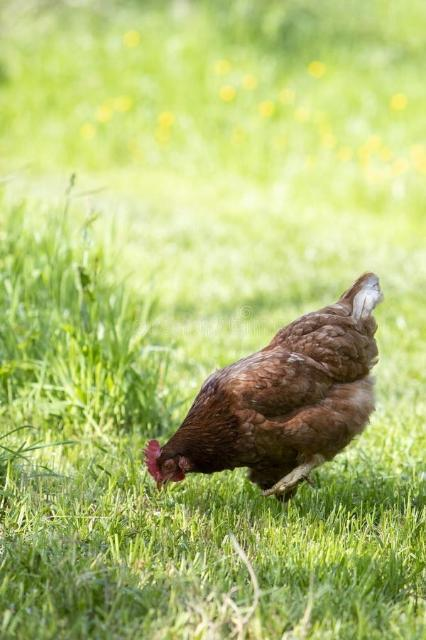Chicken: (144, 271, 383, 501)
